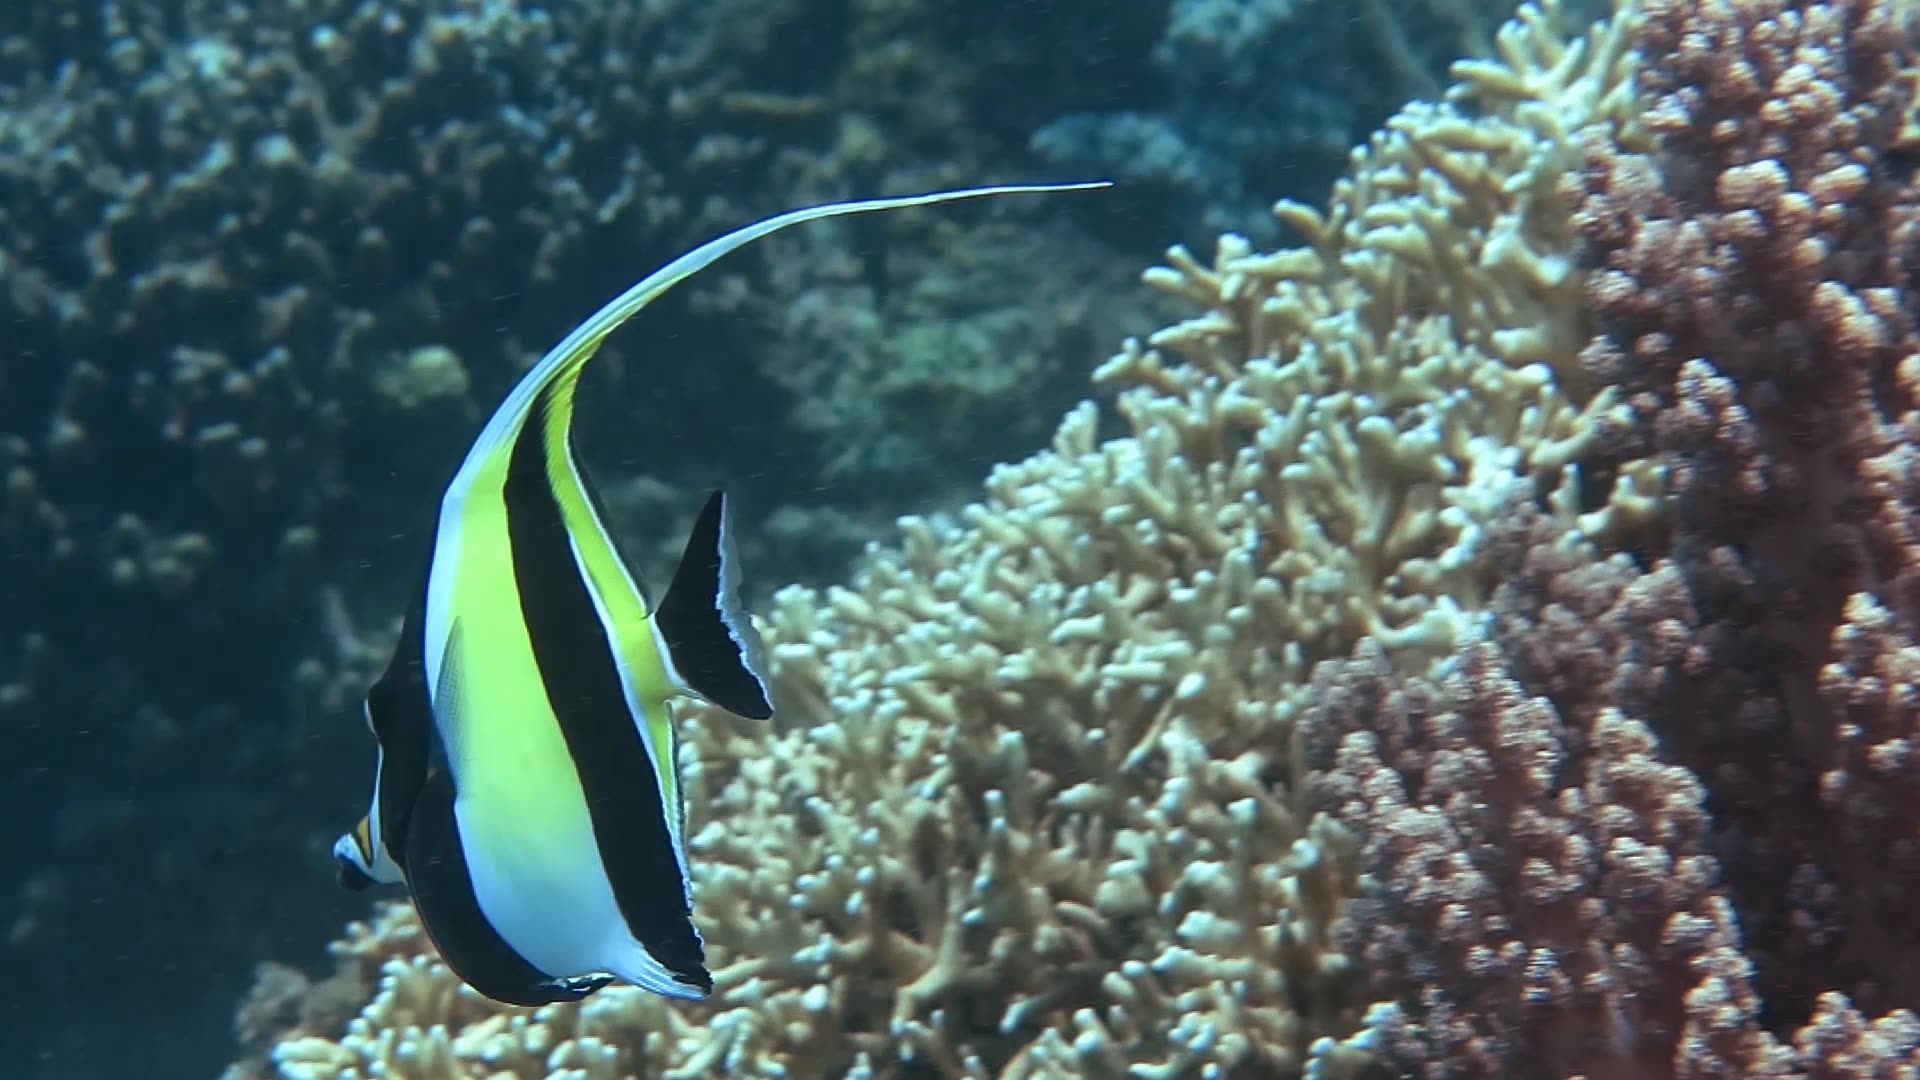Zanclus cornutus: (327, 330, 800, 1040)
